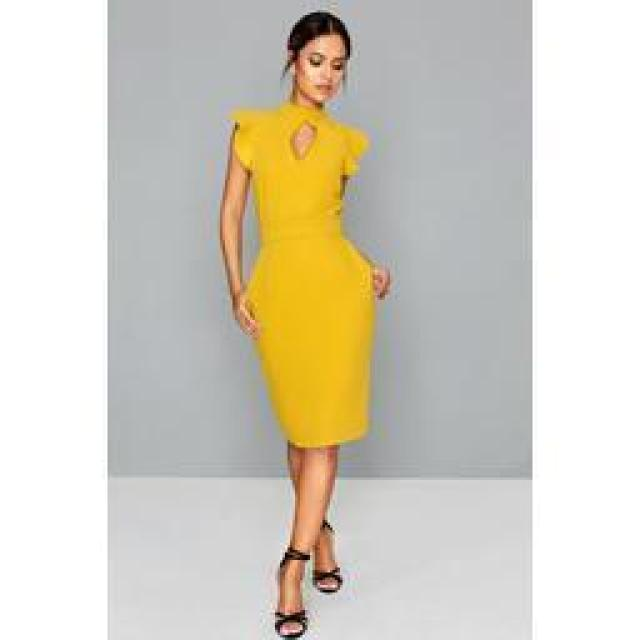dress: (226, 102, 376, 448)
